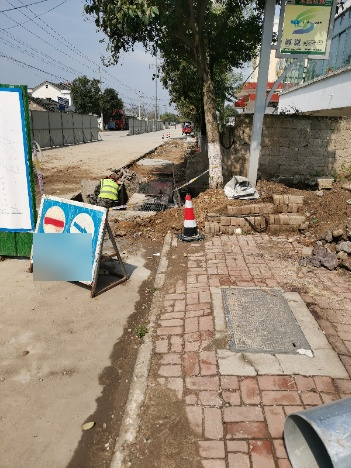well: (219, 287, 316, 356), (281, 395, 351, 468)
